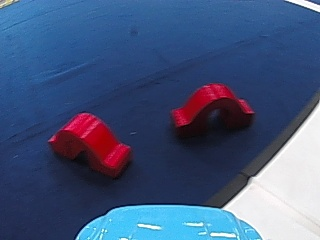bridge: (46, 110, 138, 180), (166, 79, 257, 136)
